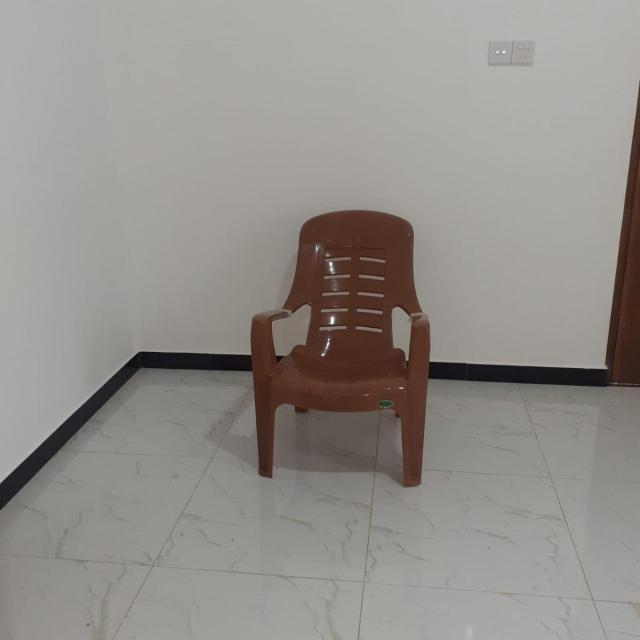chair: (250, 210, 432, 490)
